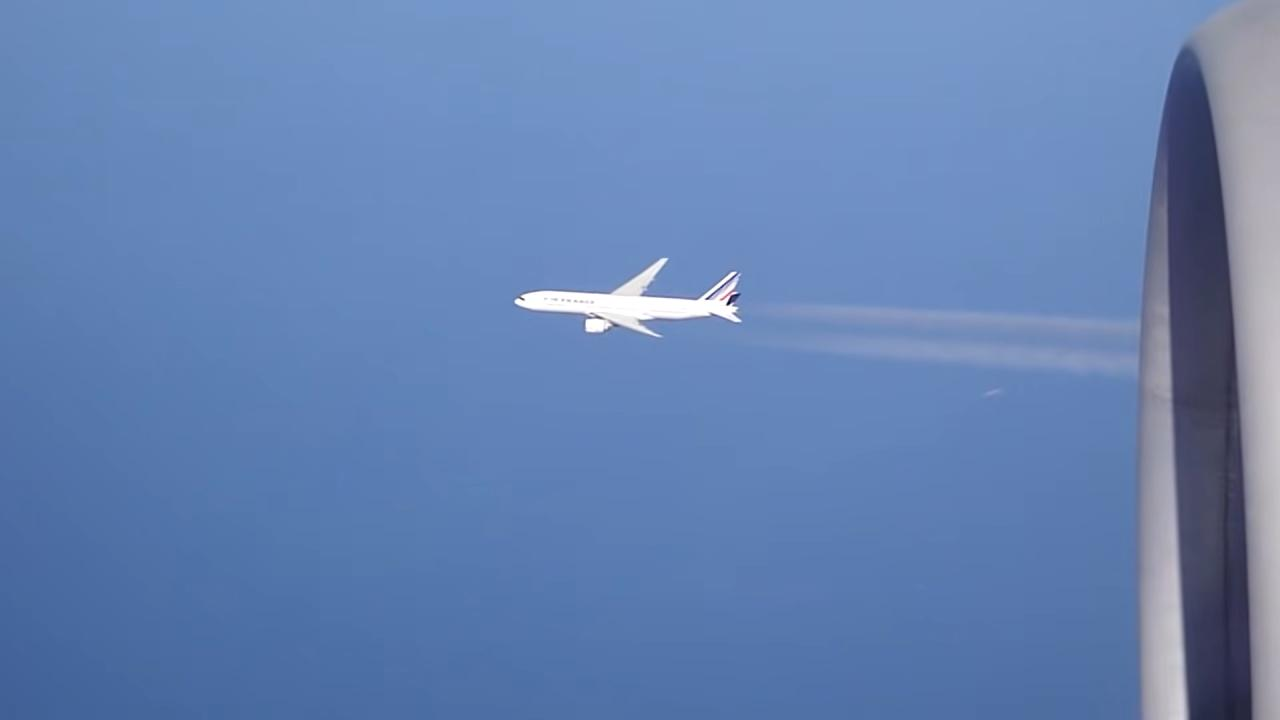Airplane: (505, 248, 765, 348)
